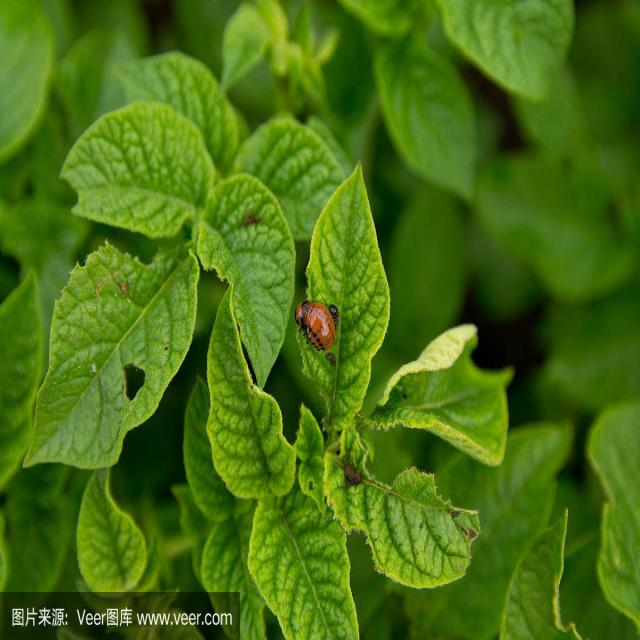ShuCaiHuaBanChong-Larva-: (287, 293, 352, 375)
